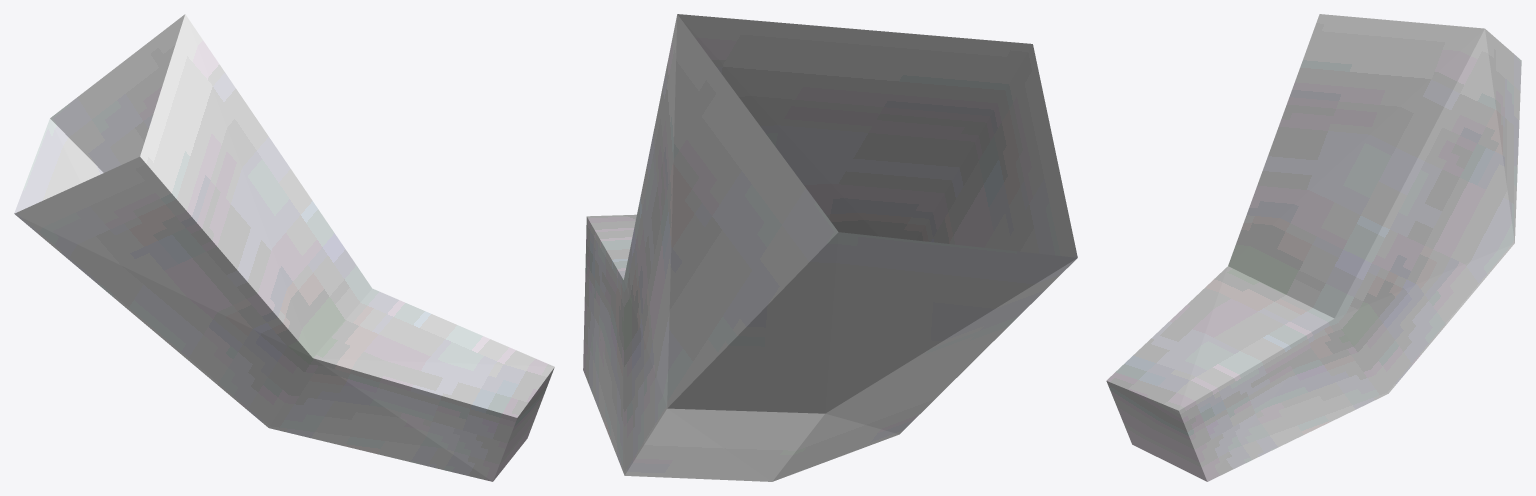
3 renders of one model, left to right at view 1: azimuth 30°, elevation 25°; view 2: azimuth 150°, elevation 25°; view 3: azimuth 270°, elevation 25°, orthographic. The views are drawn at different scales.
Parts seen in each view (by area): view 1: mesh_996D499ABA0AF55F; view 2: mesh_996D499ABA0AF55F; view 3: mesh_996D499ABA0AF55F.
Boxes of the visible parts, <box> form: mesh_996D499ABA0AF55F: <box>14,14,554,481</box>; mesh_996D499ABA0AF55F: <box>583,14,1077,481</box>; mesh_996D499ABA0AF55F: <box>1106,14,1521,481</box>.
Size of the model in its own units: 1.12 by 0.938 by 0.9846.
